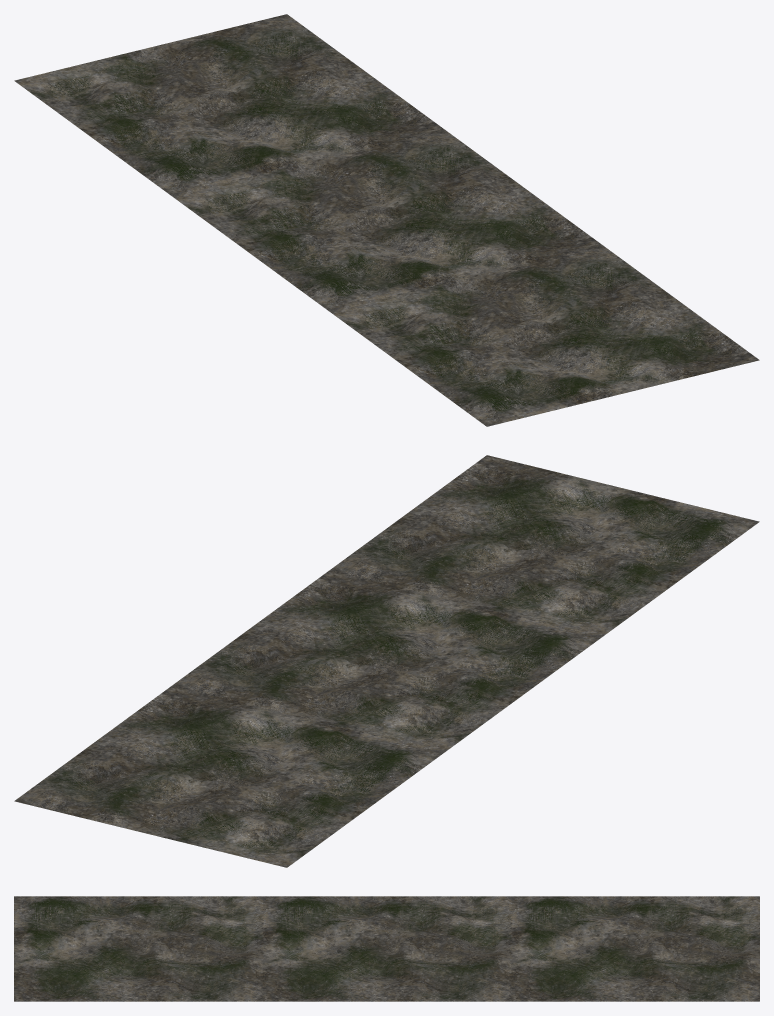
Rendered from underground_floor_1_3.fbx.
The picture shows the model from 3 angles, top to bottom: view 1: azimuth 30°, elevation 25°; view 2: azimuth 150°, elevation 25°; view 3: azimuth 270°, elevation 25°; orthographic projection. The views are drawn at different scales.
Visible parts, largest first — view 1: underground_floor_1_3; view 2: underground_floor_1_3; view 3: underground_floor_1_3.
Boxes of the visible parts, x1,y1,x2,y2 form: underground_floor_1_3: (14, 14, 759, 426); underground_floor_1_3: (14, 455, 759, 867); underground_floor_1_3: (14, 896, 759, 1001).
Size of the model in its own units: 330 by 14.52 by 990.
1 material, 1 textured.
